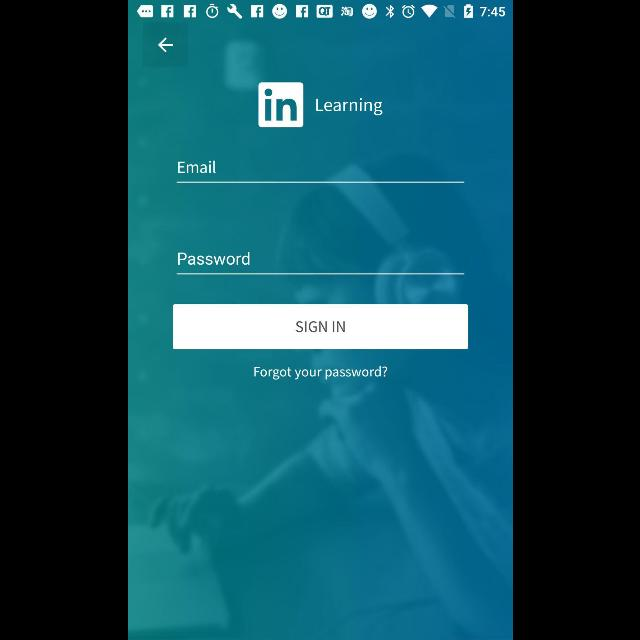icon: (157, 38, 173, 52)
image: (258, 82, 302, 128)
input: (176, 160, 464, 183), (176, 252, 464, 274)
text: (253, 366, 387, 380), (316, 98, 382, 116), (177, 252, 249, 266), (177, 160, 215, 173)
textbutton: (172, 304, 468, 350)
uppertaskbar: (128, 1, 512, 23)
